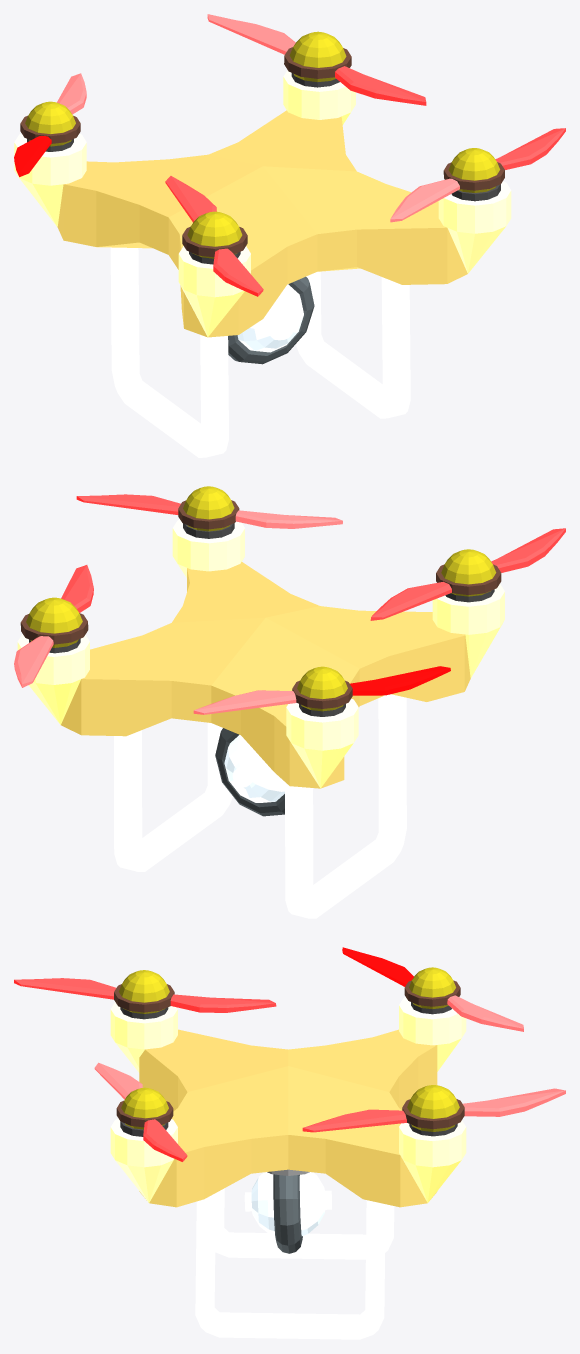
Rendered from drone.gltf.
3 views of the same model, one above another, from view 1: azimuth 30°, elevation 25°; view 2: azimuth 150°, elevation 25°; view 3: azimuth 270°, elevation 25° (orthographic). The views are drawn at different scales.
Parts seen in each view (by area): view 1: mesh_1199939253_material_19___9243_0, mesh_283485658_material_20___9243_0, mesh_1771420515_material_20___9243_0, mesh_374451338_material_20___9243_0, mesh_835989597_material_18___9243_0, mesh_2045882386_material_20___9243_0, mesh_1410951191_material_18___9243_0, mesh_439432995_material_18___9243_0, mesh_576974416_material_21___9243_0, mesh_675011374_material_18___9243_0, mesh_824398956_material_12___9243_0, mesh_2114845038_material_17___9243_0 (+18 smaller); view 2: mesh_1199939253_material_19___9243_0, mesh_374451338_material_20___9243_0, mesh_2045882386_material_20___9243_0, mesh_283485658_material_20___9243_0, mesh_439432995_material_18___9243_0, mesh_835989597_material_18___9243_0, mesh_1771420515_material_20___9243_0, mesh_675011374_material_18___9243_0, mesh_576974416_material_21___9243_0, mesh_1410951191_material_18___9243_0, mesh_824398956_material_12___9243_0, mesh_1107419545_material_12___9243_0 (+18 smaller); view 3: mesh_1199939253_material_19___9243_0, mesh_1771420515_material_20___9243_0, mesh_2045882386_material_20___9243_0, mesh_576974416_material_21___9243_0, mesh_1410951191_material_18___9243_0, mesh_675011374_material_18___9243_0, mesh_439432995_material_18___9243_0, mesh_374451338_material_20___9243_0, mesh_283485658_material_20___9243_0, mesh_2114845038_material_17___9243_0, mesh_835989597_material_18___9243_0, mesh_1372294838_material_14___9243_0 (+17 smaller).
Part boxes in pixels (x1,y1,x2,y2): mesh_1199939253_material_19___9243_0: (57,110,467,337); mesh_283485658_material_20___9243_0: (110,247,178,430); mesh_1771420515_material_20___9243_0: (343,277,410,418); mesh_374451338_material_20___9243_0: (161,335,228,457); mesh_835989597_material_18___9243_0: (438,181,511,233); mesh_2045882386_material_20___9243_0: (296,271,360,390); mesh_1410951191_material_18___9243_0: (283,70,355,119); mesh_439432995_material_18___9243_0: (14,133,86,185); mesh_576974416_material_21___9243_0: (237,284,303,352); mesh_675011374_material_18___9243_0: (178,246,250,297); mesh_824398956_material_12___9243_0: (289,31,346,82); mesh_2114845038_material_17___9243_0: (228,276,314,364); mesh_1199939253_material_19___9243_0: (61,562,470,788); mesh_374451338_material_20___9243_0: (337,694,406,889); mesh_2045882386_material_20___9243_0: (114,730,183,871); mesh_283485658_material_20___9243_0: (285,782,354,918); mesh_439432995_material_18___9243_0: (286,698,358,750); mesh_835989597_material_18___9243_0: (172,519,244,571); mesh_1771420515_material_20___9243_0: (166,722,232,843); mesh_675011374_material_18___9243_0: (432,584,504,634); mesh_576974416_material_21___9243_0: (224,735,284,802); mesh_1410951191_material_18___9243_0: (17,634,89,684); mesh_824398956_material_12___9243_0: (26,597,82,647); mesh_1107419545_material_12___9243_0: (441,549,496,596); mesh_1199939253_material_19___9243_0: (139,1029,437,1207); mesh_1771420515_material_20___9243_0: (195,1193,289,1338); mesh_2045882386_material_20___9243_0: (289,1200,385,1339); mesh_576974416_material_21___9243_0: (251,1172,325,1236); mesh_1410951191_material_18___9243_0: (399,1120,466,1167); mesh_675011374_material_18___9243_0: (110,1002,177,1049); mesh_439432995_material_18___9243_0: (399,997,466,1045); mesh_374451338_material_20___9243_0: (215,1188,299,1258); mesh_283485658_material_20___9243_0: (299,1204,394,1259); mesh_2114845038_material_17___9243_0: (273,1174,302,1253); mesh_835989597_material_18___9243_0: (110,1118,177,1167); mesh_1372294838_material_14___9243_0: (463,1088,565,1116).
Bounding box in the file's own units: 68.46 × 40.98 × 76.58.
